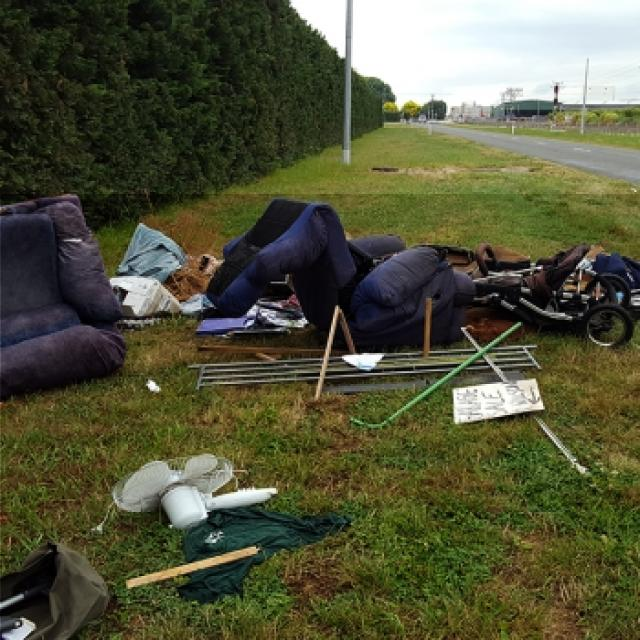dumping: (1, 194, 640, 640)
